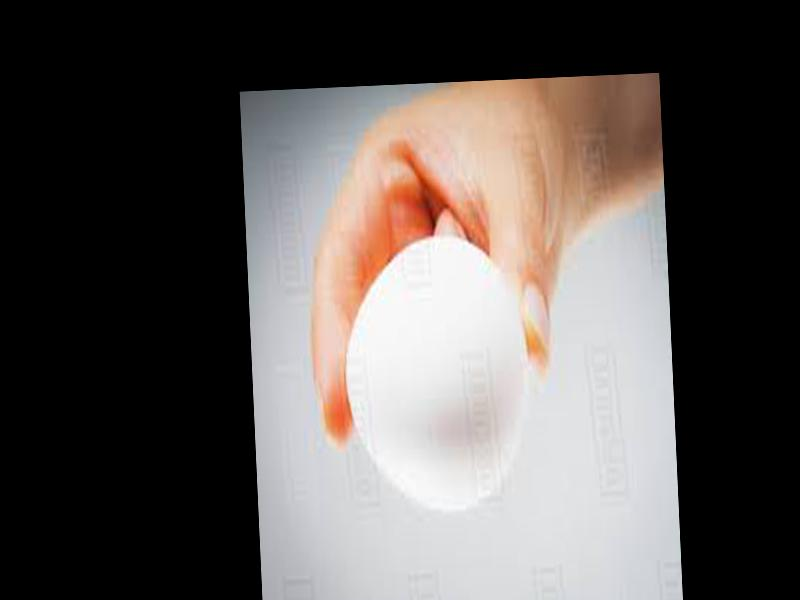Eggs: (340, 235, 530, 515)
